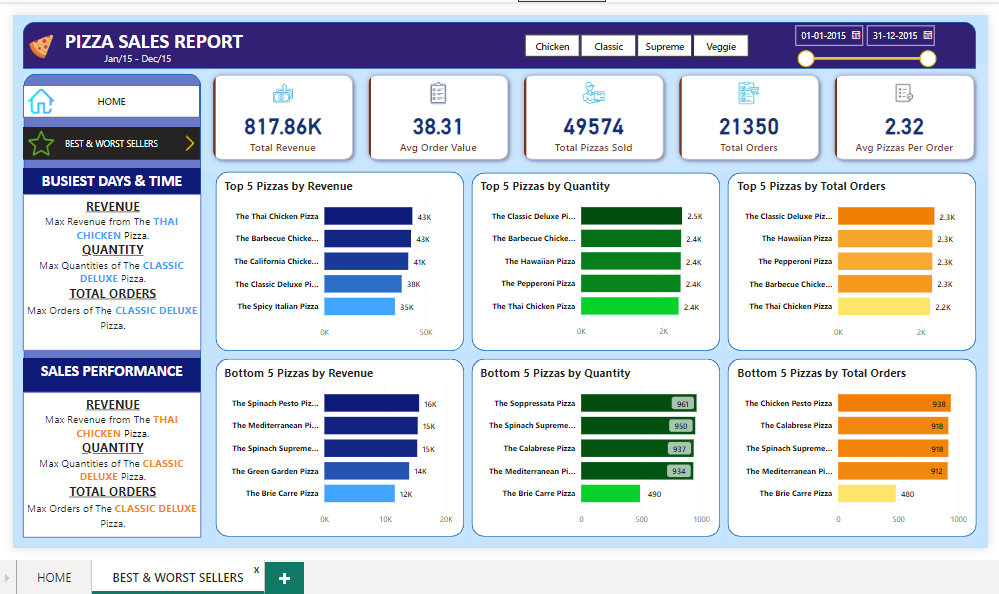

What the dashboard file says about the page in this screenshot:
{"tool":"powerbi","page":{"name":"BEST & WORST SELLERS","canvas":[1500,820],"ordinal":1},"visuals":[{"type":"cardVisual","fields":{"Data":["pizza_sales.Total Revenue","pizza_sales.Avg Order Value","pizza_sales.Total Pizzas Sold","pizza_sales.Total Orders","pizza_sales.Avg Pizzas Per Order"]},"box":[290.6,75.9,1209,164.6],"z":0},{"type":"shape","box":[16.1,11.3,1465.7,72],"z":1000},{"type":"textbox","box":[61.3,16.1,309.9,50],"z":2000},{"type":"textbox","box":[131,50,122.7,37.1],"z":3000},{"type":"image","box":[16.1,24.2,56.5,48.4],"z":4000},{"type":"shape","box":[310.1,240,383.5,277.7],"z":5000},{"type":"shape","box":[16,88.8,275,715],"z":6000},{"type":"textbox","box":[16,235.7,273,40.4],"z":7000},{"type":"textbox","box":[16.1,527.8,272.8,51.7],"z":8000},{"type":"textbox","box":[16.1,276,274.4,240.5],"z":9000},{"type":"textbox","box":[16.1,579.5,274.4,224.4],"z":10000},{"type":"slicer","fields":{"Values":["pizza_sales.pizza_category"]},"box":[761.9,23,393.9,48.4],"z":11000},{"type":"slicer","fields":{"Values":["pizza_sales.order_date"]},"box":[1191.3,6.5,237.3,76],"z":12000},{"type":"shape","box":[703.9,241,383.5,276.3],"z":13000},{"type":"shape","box":[1097.7,241,383.5,276.3],"z":14000},{"type":"shape","box":[310.1,527.6,383.5,276.3],"z":15000},{"type":"shape","box":[703.9,527.6,383.5,276.3],"z":16000},{"type":"shape","box":[1097.7,527.6,385,276.3],"z":17000},{"type":"barChart","title":"Top 5 Pizzas by Revenue","fields":{"Category":["pizza_sales.pizza_name"],"Y":["pizza_sales.Total Revenue"]},"box":[320.6,251.3,360.9,254.6],"z":18000},{"type":"barChart","title":"Bottom 5 Pizzas by Revenue","fields":{"Category":["pizza_sales.pizza_name"],"Y":["pizza_sales.Total Revenue"]},"box":[320.6,538.1,360.9,254.6],"z":19000},{"type":"barChart","title":"Top 5 Pizzas by Quantity","fields":{"Category":["pizza_sales.pizza_name"],"Y":["Sum(pizza_sales.quantity)"]},"box":[714.2,251.3,361.5,254.2],"z":20000},{"type":"barChart","title":"Bottom 5 Pizzas by Quantity","fields":{"Category":["pizza_sales.pizza_name"],"Y":["Sum(pizza_sales.quantity)"]},"box":[713.7,538.1,362.5,254.6],"z":21000},{"type":"barChart","title":"Top 5 Pizzas by Total Orders","fields":{"Category":["pizza_sales.pizza_name"],"Y":["pizza_sales.Total Orders"]},"box":[1108.5,251.3,362.5,254.6],"z":22000},{"type":"barChart","title":"Bottom 5 Pizzas by Total Orders","fields":{"Category":["pizza_sales.pizza_name"],"Y":["pizza_sales.Total Orders"]},"box":[1108.5,538.1,362.5,254.6],"z":23000},{"type":"pageNavigator","box":[16.1,172.7,272.8,50],"z":24000},{"type":"pageNavigator","box":[16.1,108.1,272.8,50],"z":25000},{"type":"image","box":[255,172.7,33.9,50],"z":26000},{"type":"image","box":[16.1,108.1,56.5,50],"z":27000},{"type":"image","box":[16.1,172.7,56.5,50],"z":28000}]}

Visuals, with their boxes on the page's 1500x820 design canvas (x1, y1, x2, y2). These are canvas units, not pixel positions in the 999x594 screenshot, which may show the page scaled, cropped or inside an application window:
cardVisual - pizza_sales.Total Revenue x pizza_sales.Avg Order Value: select_region(291, 76, 1500, 240)
shape: select_region(16, 11, 1482, 83)
textbox: select_region(61, 16, 371, 66)
textbox: select_region(131, 50, 254, 87)
image: select_region(16, 24, 73, 73)
shape: select_region(310, 240, 694, 518)
shape: select_region(16, 89, 291, 804)
textbox: select_region(16, 236, 289, 276)
textbox: select_region(16, 528, 289, 580)
textbox: select_region(16, 276, 290, 516)
textbox: select_region(16, 580, 290, 804)
slicer - pizza_sales.pizza_category: select_region(762, 23, 1156, 71)
slicer - pizza_sales.order_date: select_region(1191, 6, 1429, 82)
shape: select_region(704, 241, 1087, 517)
shape: select_region(1098, 241, 1481, 517)
shape: select_region(310, 528, 694, 804)
shape: select_region(704, 528, 1087, 804)
shape: select_region(1098, 528, 1483, 804)
"Top 5 Pizzas by Revenue" barChart: select_region(321, 251, 682, 506)
"Bottom 5 Pizzas by Revenue" barChart: select_region(321, 538, 682, 793)
"Top 5 Pizzas by Quantity" barChart: select_region(714, 251, 1076, 506)
"Bottom 5 Pizzas by Quantity" barChart: select_region(714, 538, 1076, 793)
"Top 5 Pizzas by Total Orders" barChart: select_region(1108, 251, 1471, 506)
"Bottom 5 Pizzas by Total Orders" barChart: select_region(1108, 538, 1471, 793)
pageNavigator: select_region(16, 173, 289, 223)
pageNavigator: select_region(16, 108, 289, 158)
image: select_region(255, 173, 289, 223)
image: select_region(16, 108, 73, 158)
image: select_region(16, 173, 73, 223)
